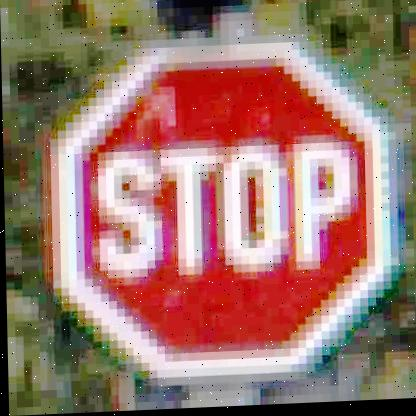Stop Sign: (48, 36, 402, 388)
